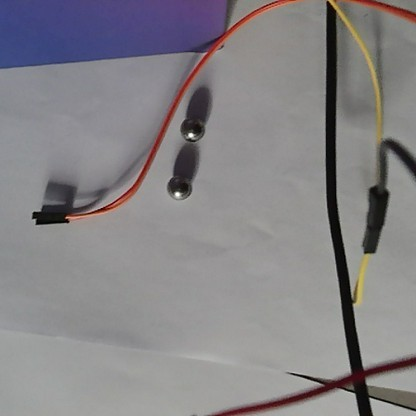ironball: (164, 173, 193, 203), (179, 115, 206, 142)
